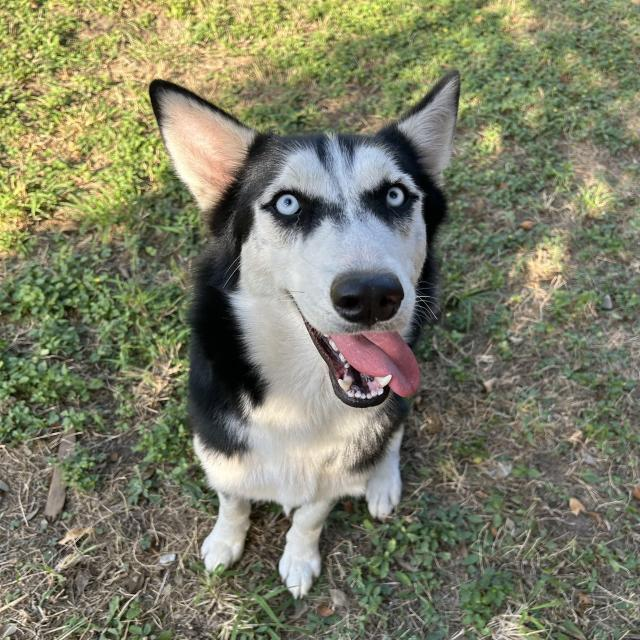siberian_husky_dog: (152, 59, 469, 414)
